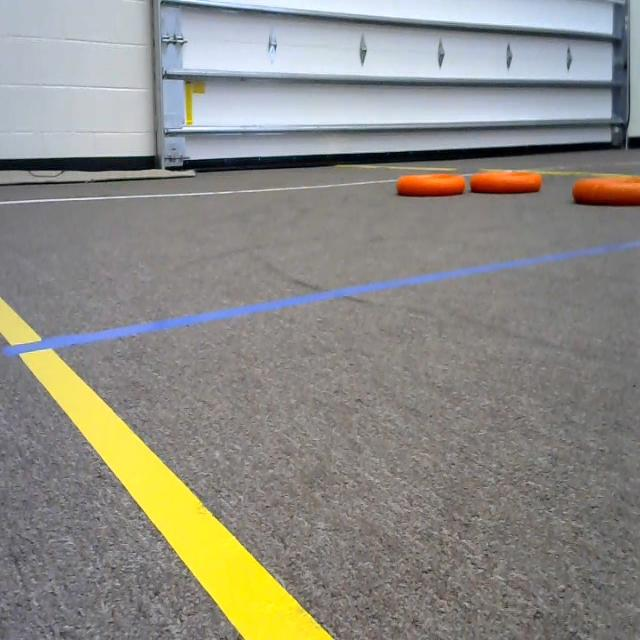note: (391, 159, 469, 211), (572, 172, 640, 214), (467, 165, 552, 198)
